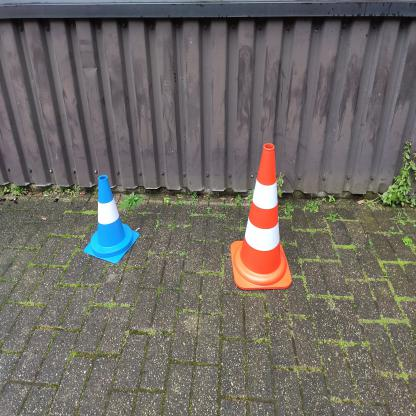Cones_big: (227, 142, 296, 291)
Cones_small_blue: (77, 171, 141, 270)
